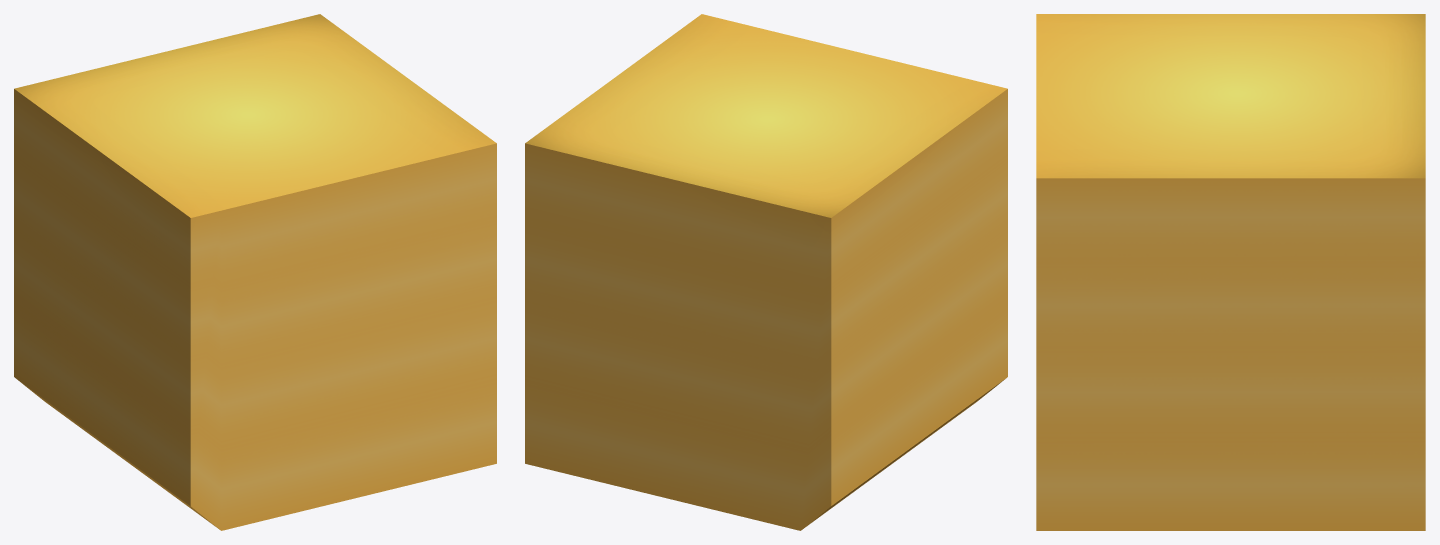
The model's file is green_block_D.fbx.
3 renders of one model, left to right at view 1: azimuth 30°, elevation 25°; view 2: azimuth 150°, elevation 25°; view 3: azimuth 270°, elevation 25°, orthographic. The views are drawn at different scales.
Parts seen in each view (by area): view 1: block; view 2: block; view 3: block.
Part boxes in pixels (box(x1,y1,x2,y2)): block: box(14, 14, 496, 530); block: box(525, 14, 1007, 530); block: box(1036, 14, 1425, 530).
Size of the model in its own units: 100 by 100 by 100.
